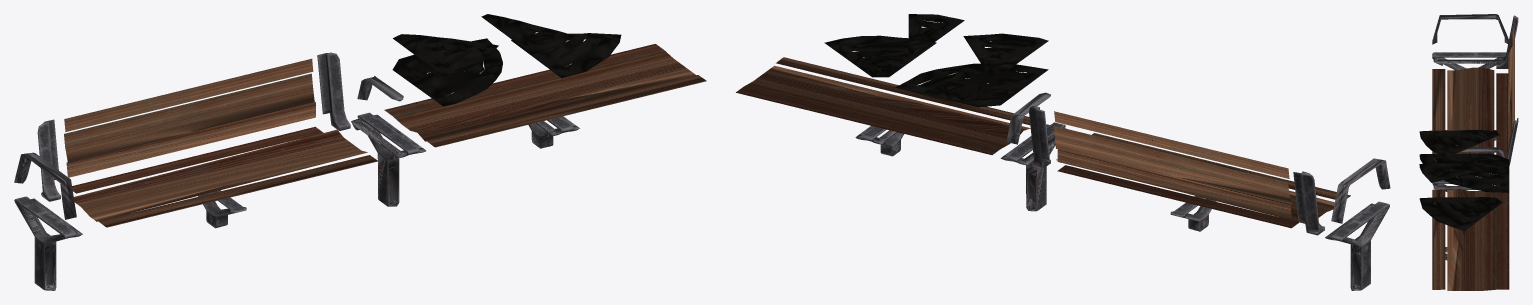
Rendered from modular_street_seating.glb.
3 views of the same model, side by side, from view 1: azimuth 30°, elevation 25°; view 2: azimuth 150°, elevation 25°; view 3: azimuth 270°, elevation 25° (orthographic). The views are drawn at different scales.
Parts seen in each view (by area): view 1: seat_back, seat, seat_bench, connector_90, legs_double, legs_single, connector_45, connector_60, connector_30, back_support_l, arm_rest_01, back_support_r (+3 smaller); view 2: seat_bench, seat_back, connector_90, seat, connector_60, legs_single, connector_45, legs_double, connector_30, back_support_r, arm_rest_01, back_support_l (+3 smaller); view 3: seat_bench, seat, connector_90, connector_60, connector_45, connector_30, legs_single, seat_back, arm_rest_01, back_support_r, legs_double, arm_rest_02 (+1 smaller).
Boxes of the visible parts, x1,y1,x2,y2 form: seat_back: [64, 58, 315, 177]; seat: [72, 126, 377, 227]; seat_bench: [384, 44, 706, 147]; connector_90: [392, 38, 502, 106]; legs_double: [351, 112, 426, 206]; legs_single: [14, 196, 82, 290]; connector_45: [393, 34, 498, 76]; connector_60: [511, 33, 621, 78]; connector_30: [481, 14, 575, 54]; back_support_l: [317, 52, 350, 130]; arm_rest_01: [14, 152, 76, 219]; back_support_r: [37, 119, 60, 201]; seat_bench: [736, 57, 1030, 154]; seat_back: [1054, 111, 1292, 218]; connector_90: [895, 63, 1048, 107]; seat: [1056, 133, 1350, 228]; connector_60: [824, 35, 936, 77]; legs_single: [1325, 201, 1389, 290]; connector_45: [963, 33, 1048, 75]; legs_double: [1000, 122, 1065, 211]; connector_30: [908, 14, 964, 54]; back_support_r: [1293, 171, 1324, 235]; arm_rest_01: [1331, 158, 1390, 223]; back_support_l: [1029, 106, 1050, 168]; seat_bench: [1432, 188, 1509, 290]; seat: [1432, 67, 1508, 162]; connector_90: [1419, 153, 1509, 192]; connector_60: [1419, 197, 1502, 230]; connector_45: [1419, 130, 1499, 157]; connector_30: [1419, 162, 1497, 182]; legs_single: [1432, 52, 1506, 70]; seat_back: [1508, 25, 1514, 148]; arm_rest_01: [1432, 14, 1508, 44]; back_support_r: [1496, 15, 1518, 68]; legs_double: [1432, 179, 1498, 191]; arm_rest_02: [1461, 147, 1505, 158].
Size of the model in its own units: 4.34 by 0.95 by 0.769.
4 materials, 4 textured.
